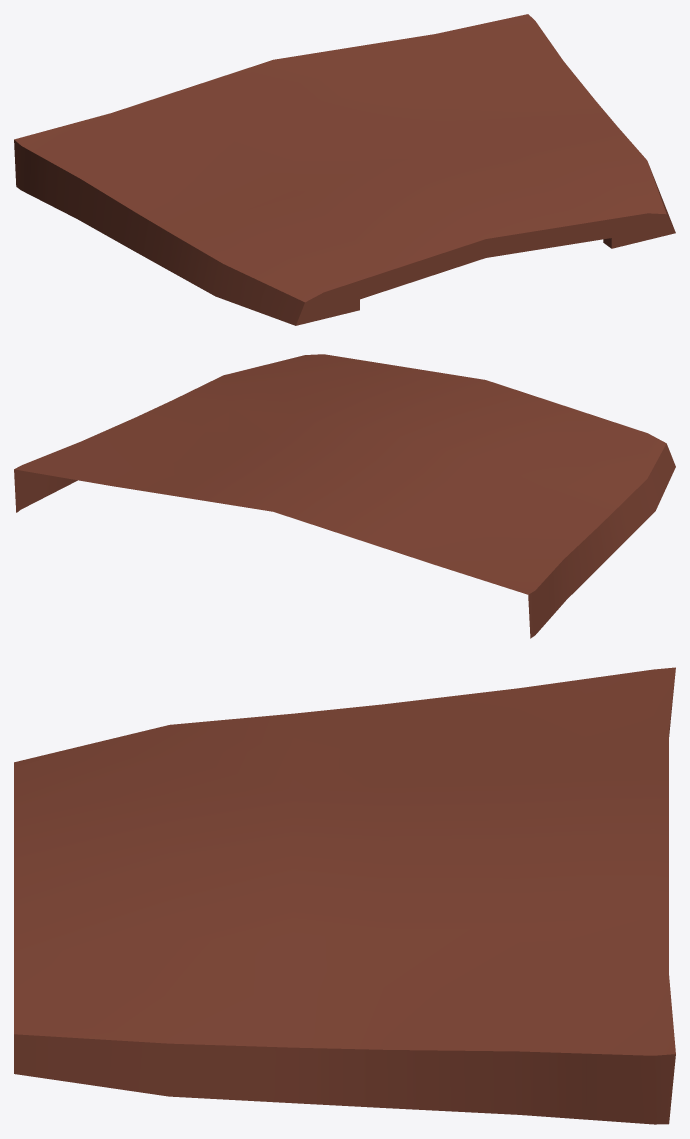
The model's file is TruckHood.fbx.
3 views of the same model, one above another, from view 1: azimuth 30°, elevation 25°; view 2: azimuth 150°, elevation 25°; view 3: azimuth 270°, elevation 25° (orthographic). The views are drawn at different scales.
Parts seen in each view (by area): view 1: TruckHood; view 2: TruckHood; view 3: TruckHood.
Part boxes in pixels (x1,y1,x2,y2): TruckHood: (14, 14, 675, 325); TruckHood: (14, 354, 675, 638); TruckHood: (14, 667, 675, 1124).
Size of the model in its own units: 226 by 163 by 26.96.
